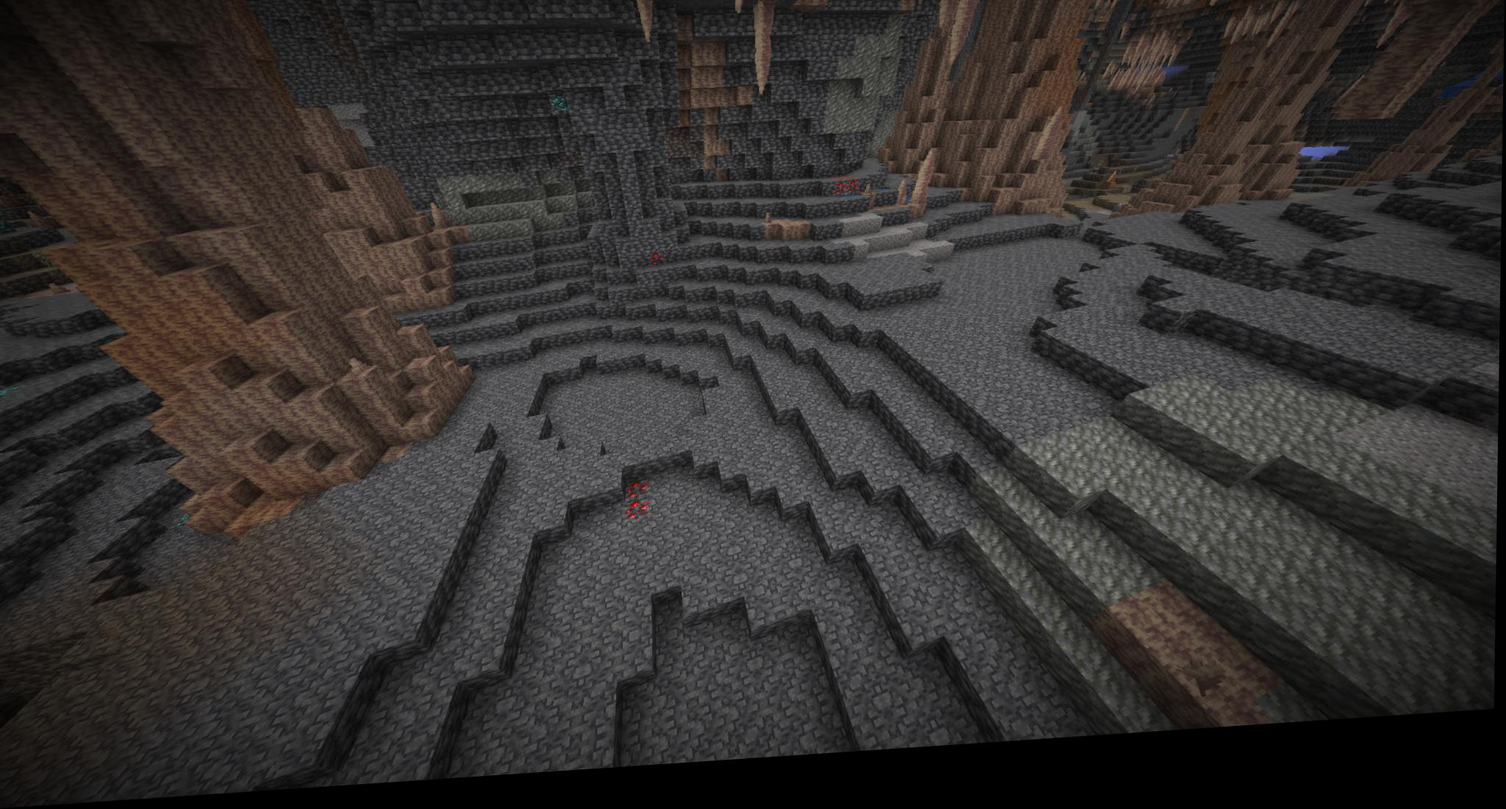diamond ore: (548, 95, 575, 126)
redstone ore: (628, 485, 658, 531), (825, 178, 862, 209), (647, 256, 669, 277)
